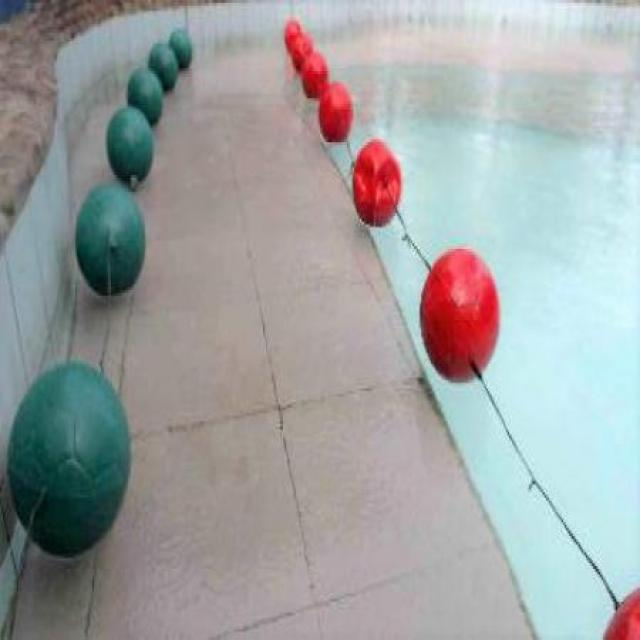buoy: (5, 361, 130, 558), (419, 246, 501, 383), (74, 180, 145, 296), (352, 140, 402, 227), (104, 104, 154, 180), (125, 66, 162, 126), (318, 81, 353, 144), (298, 49, 328, 99), (148, 41, 178, 90), (290, 32, 313, 72), (168, 27, 192, 65), (283, 18, 302, 48)
